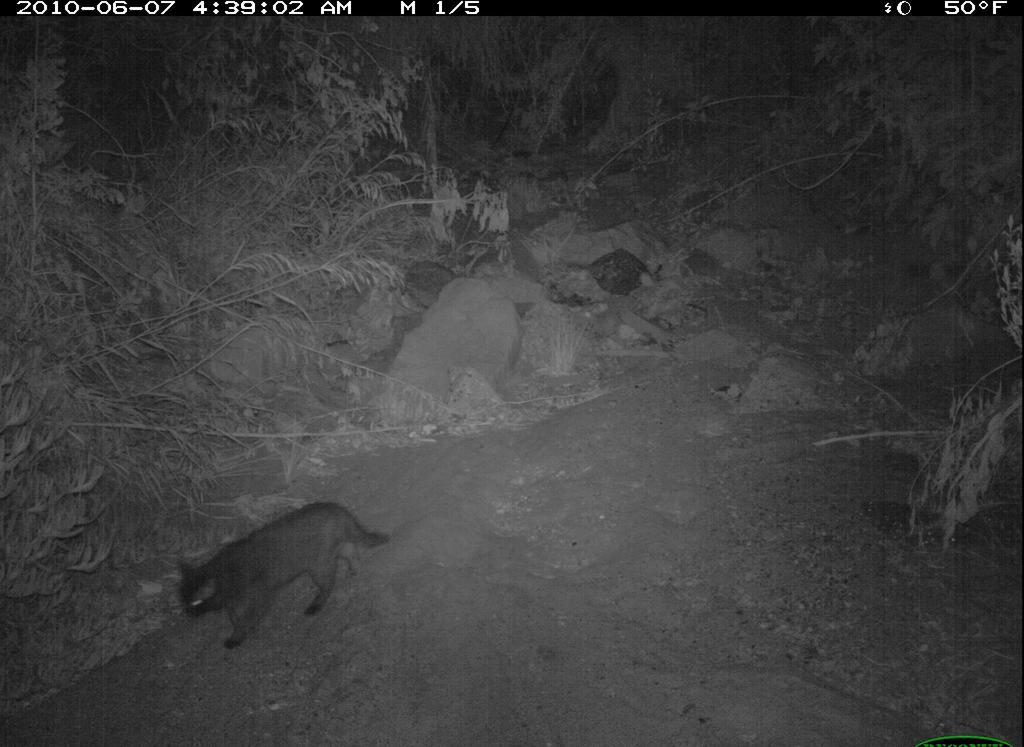cat: (168, 484, 408, 658)
